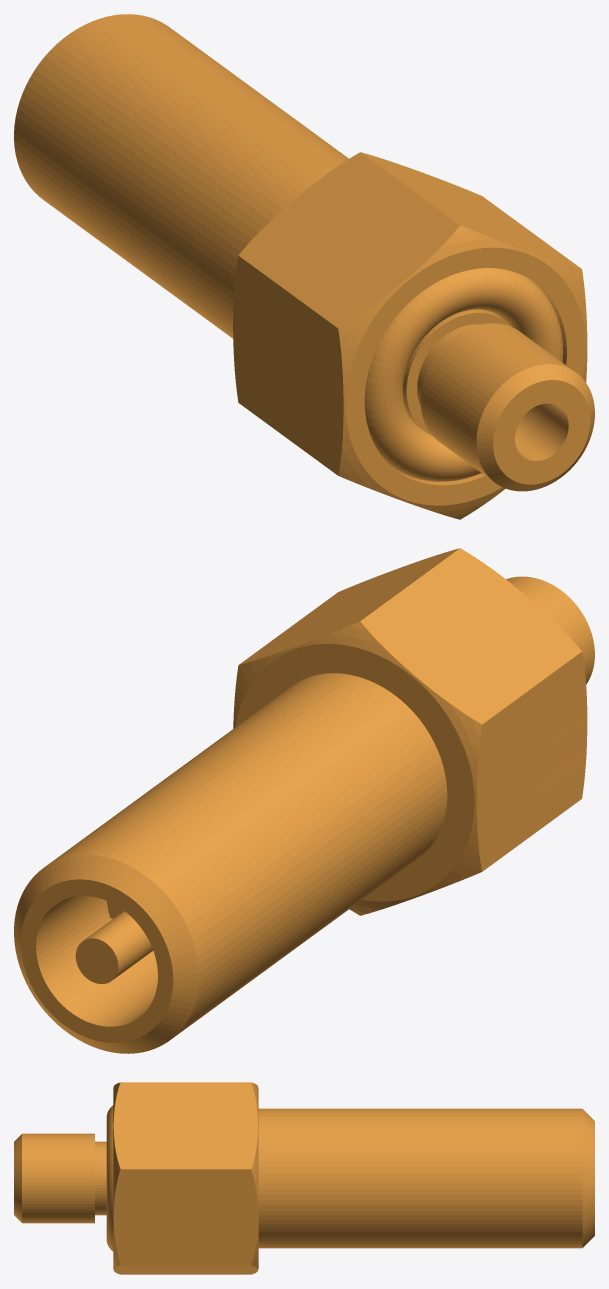
Rendered from Schrader_Valve.glb.
The picture shows the model from 3 angles, top to bottom: view 1: azimuth 30°, elevation 25°; view 2: azimuth 150°, elevation 25°; view 3: azimuth 270°, elevation 25°; orthographic projection. The views are drawn at different scales.
Parts seen in each view (by area): view 1: Schrader Valve; view 2: Schrader Valve; view 3: Schrader Valve.
Part boxes in pixels (<box>): Schrader Valve: <box>14,14,594,519</box>; Schrader Valve: <box>14,548,594,1053</box>; Schrader Valve: <box>14,1082,594,1274</box>.
Bounding box in the file's own units: 0.3937 × 0.4546 × 1.24.
